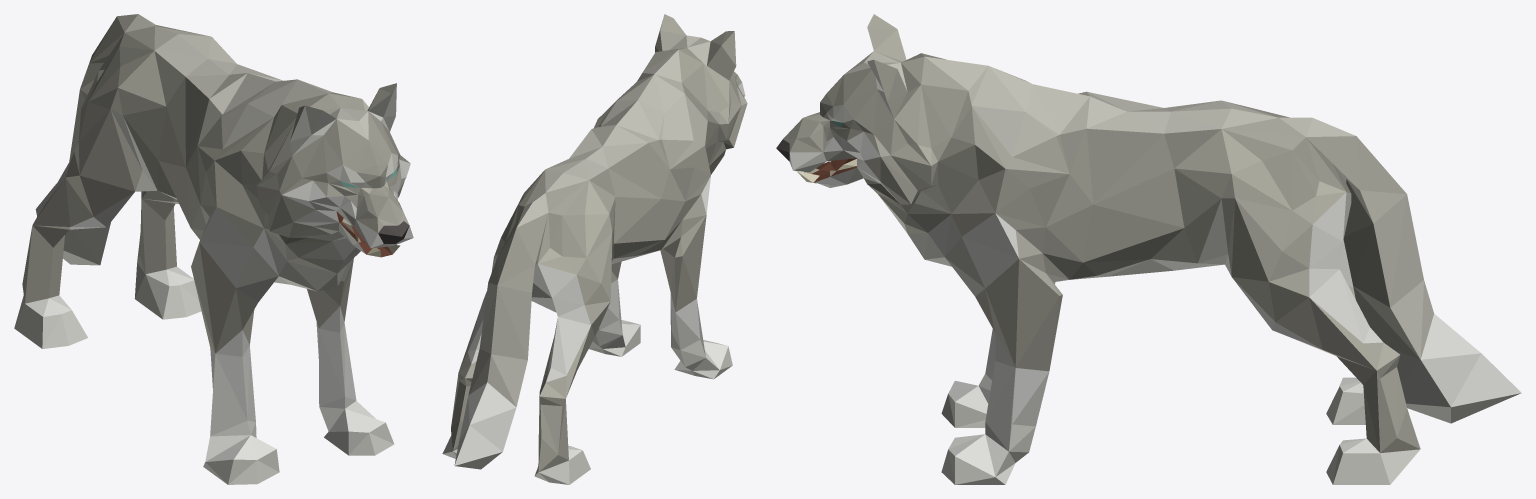
The model's file is wolf.glb.
3 views of the same model, side by side, from view 1: azimuth 30°, elevation 25°; view 2: azimuth 150°, elevation 25°; view 3: azimuth 270°, elevation 25° (orthographic). The views are drawn at different scales.
Size of the model in its own units: 60 by 133 by 221.
Materials: 1 (1 with a texture image).
